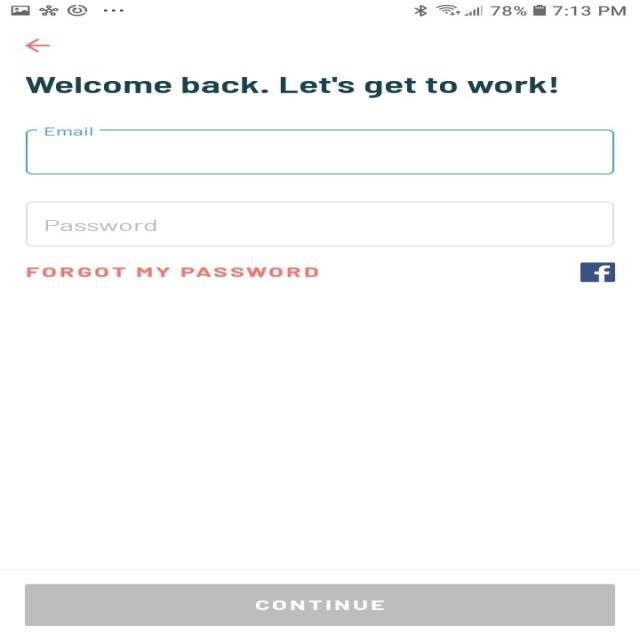EditText: (24, 126, 614, 174), (24, 201, 614, 247)
Icon: (580, 262, 616, 282), (24, 38, 50, 53)
Text: (25, 76, 558, 98), (25, 266, 318, 277), (45, 219, 156, 231), (46, 127, 94, 136)
TextButton: (24, 584, 614, 626)
